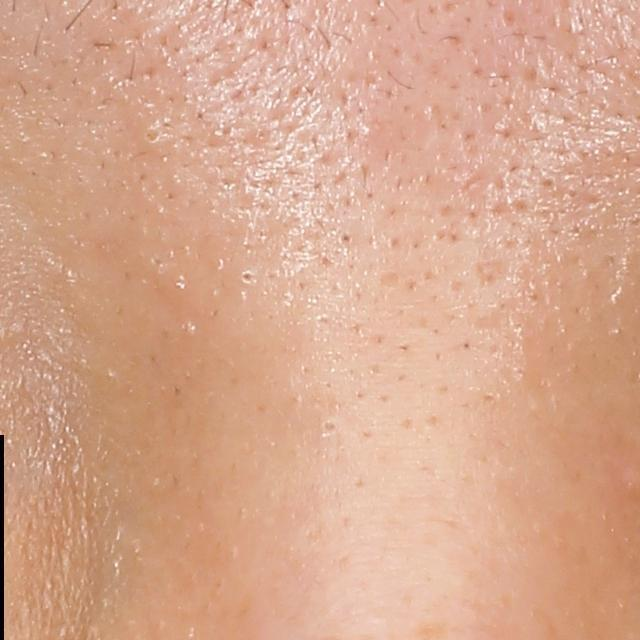comedo: (136, 123, 169, 155), (315, 414, 346, 439), (237, 268, 256, 288)
